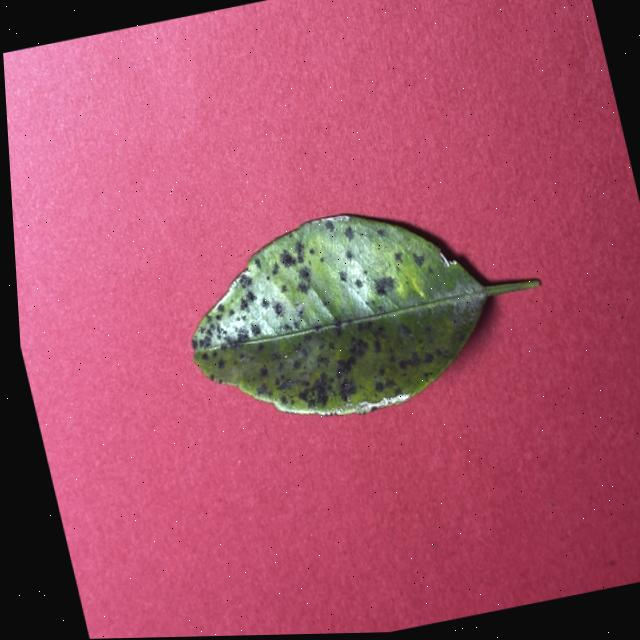sooty_mold: (192, 214, 536, 414)
